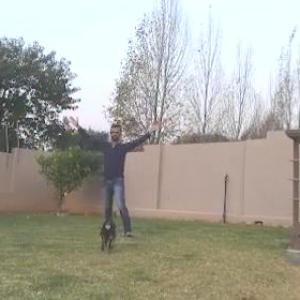takeoff: (78, 116, 174, 235)
